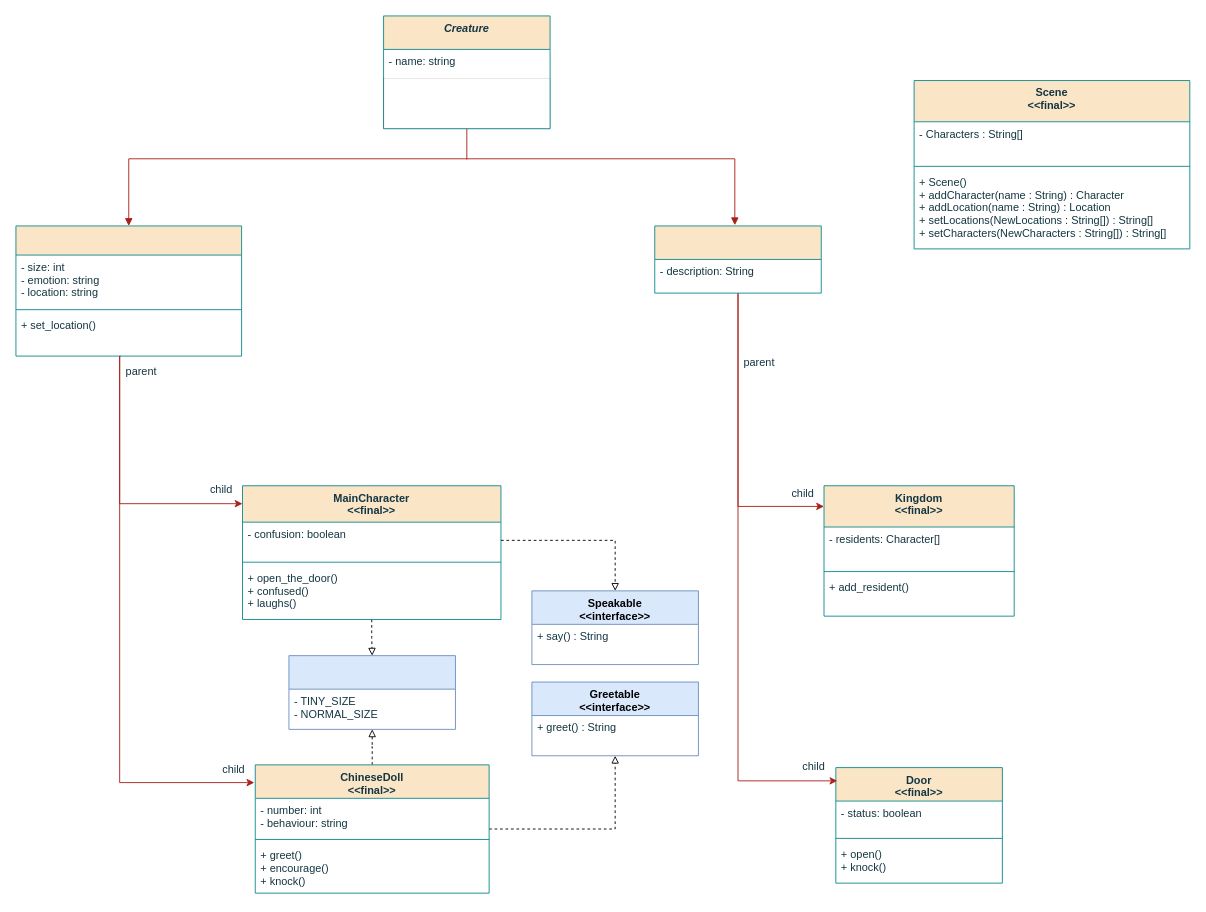
This 1206x912 diagram has some shape labels left out. Each missing label, with the box of its shape:
+ equals(o: Object): boolean + hashCode(): int + toString(): String: (383, 78, 550, 128)
Character: (15, 225, 242, 356)
enum MySizes: (288, 655, 455, 729)
Location: (654, 225, 821, 293)
